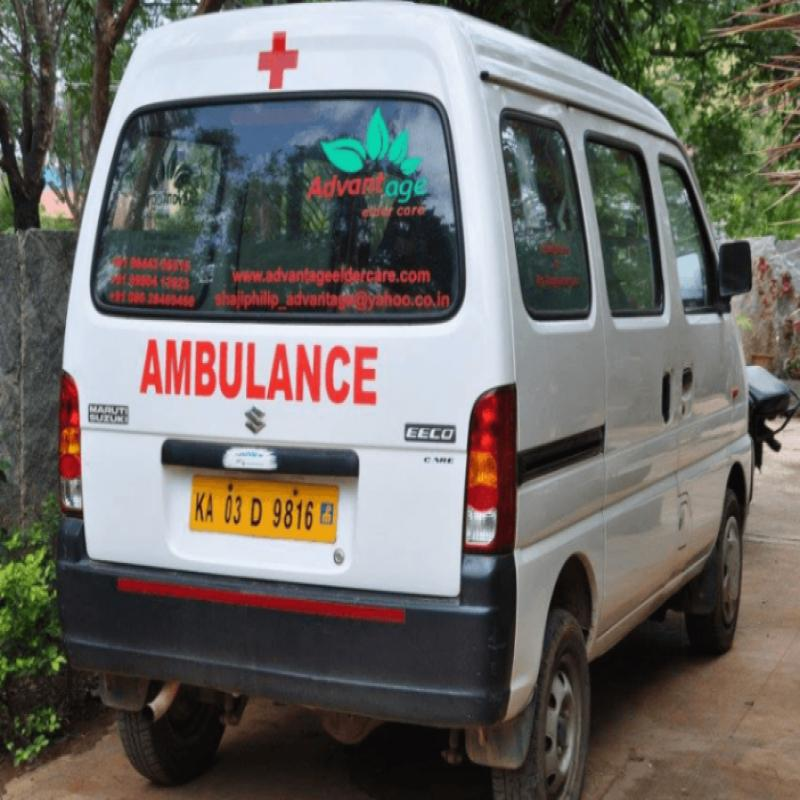ambulance: (59, 26, 761, 786)
